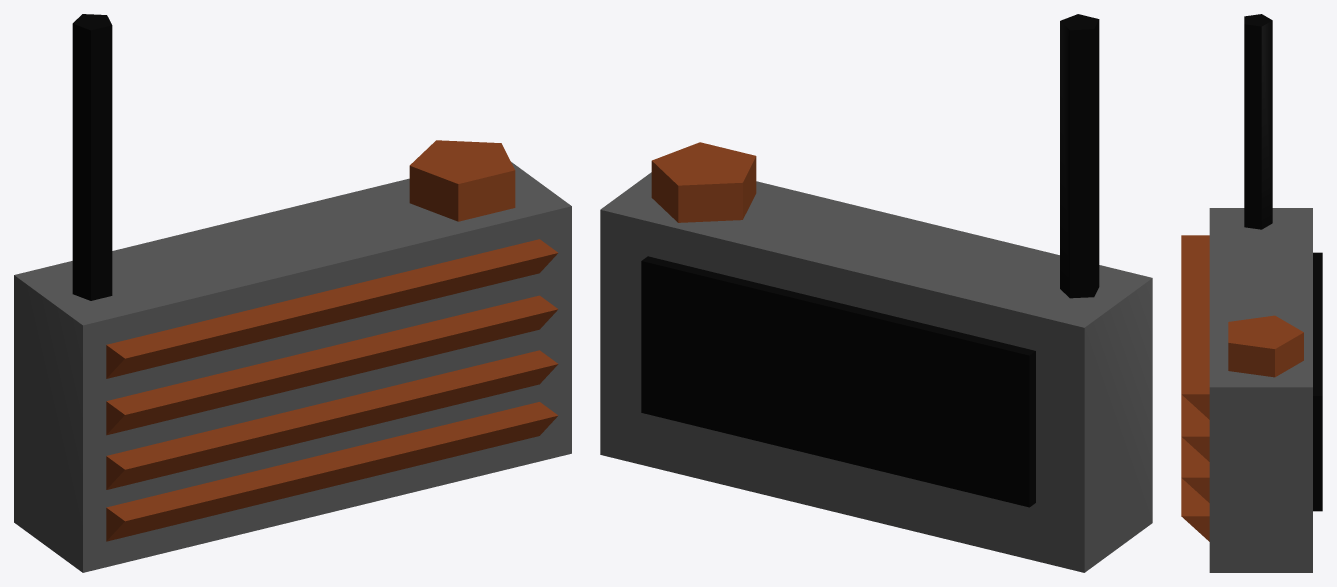
The model's file is radio.fbx.
The picture shows the model from 3 angles, left to right: view 1: azimuth 30°, elevation 25°; view 2: azimuth 150°, elevation 25°; view 3: azimuth 270°, elevation 25°; orthographic projection. The views are drawn at different scales.
Parts seen in each view (by area): view 1: Radio; view 2: Radio; view 3: Radio.
Part boxes in pixels (x1,y1,x2,y2): Radio: (14,14,571,572); Radio: (600,14,1152,572); Radio: (1181,14,1322,572).
Size of the model in its own units: 200 by 203 by 66.77.
